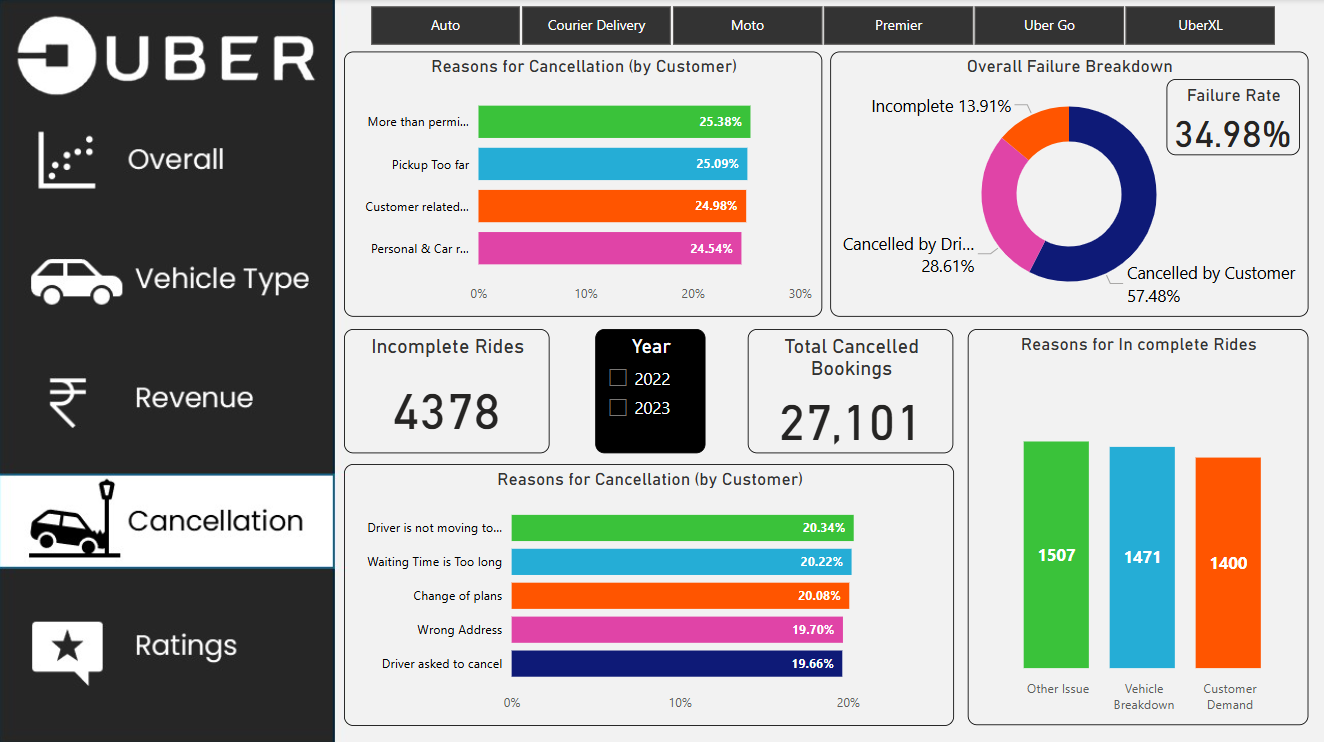

The page's visual inventory and layout, read from the dashboard file:
{"tool":"powerbi","page":{"name":"Cancellation","canvas":[1280,720],"ordinal":3},"visuals":[{"type":"barChart","title":"Reasons for Cancellation (by Customer) ","fields":{"Category":["Uber_data.Cancelled by Customer Reason"],"Y":["CountNonNull(Uber_data.Booking ID)"],"Series":["Uber_data.Cancelled by Customer Reason"]},"box":[332.5,448.8,588.8,252.5],"z":0},{"type":"barChart","title":"Reasons for Cancellation (by Customer) ","fields":{"Series":["Uber_data.Cancelled by Driver Reason"],"Y":["CountNonNull(Uber_data.Booking ID)"],"Category":["Uber_data.Cancelled by Driver Reason"]},"box":[332.5,51.2,461.2,256.2],"z":1000},{"type":"slicer","fields":{"Values":["Uber_data.Vehicle Type"]},"box":[332.5,0,922.5,51.2],"z":2000},{"type":"card","title":"Total Cancelled Bookings","fields":{"Values":["CountNonNull(Uber_data.Booking ID)"]},"box":[722.5,318.8,198.8,120],"z":3000},{"type":"card","title":"Incomplete Rides","fields":{"Values":["CountNonNull(Uber_data.Booking ID)"]},"box":[332.5,318.8,198.8,120],"z":4000},{"type":"columnChart","title":"Reasons for In complete Rides","fields":{"Y":["CountNonNull(Uber_data.Booking ID)"],"Category":["Uber_data.Incomplete Ride Reason"],"Series":["Uber_data.Incomplete Ride Reason"]},"box":[935,318.8,328.8,382.5],"z":5000},{"type":"donutChart","title":"Overall Failure Breakdown","fields":{"Y":["CountNonNull(Uber_data.Booking ID)"],"Category":["Uber_data.Booking Status"]},"box":[802.5,51.2,461.2,256.2],"z":6000},{"type":"slicer","title":"Year","fields":{"Values":["Uber_data.Year"]},"box":[575,318.8,106.2,120],"z":6001},{"type":"card","title":"Failure Rate ","fields":{"Values":["Uber_data.FailureRate"]},"box":[1126.2,77.5,128.8,73.8],"z":6002},{"type":"actionButton","box":[0,115,322.5,90],"z":6003},{"type":"actionButton","box":[0,217.5,322.5,90],"z":6004},{"type":"actionButton","box":[0,333.8,322.5,90],"z":6005},{"type":"actionButton","box":[0,587.5,322.5,90],"z":6006}]}

Visuals, with their boxes on the page's 1280x720 design canvas (x1, y1, x2, y2). These are canvas units, not pixel positions in the 1324x742 screenshot, which may show the page scaled, cropped or inside an application window:
"Reasons for Cancellation (by Customer) " barChart: <box>332,449,921,701</box>
"Reasons for Cancellation (by Customer) " barChart: <box>332,51,794,307</box>
slicer - Uber_data.Vehicle Type: <box>332,0,1255,51</box>
"Total Cancelled Bookings" card: <box>722,319,921,439</box>
"Incomplete Rides" card: <box>332,319,531,439</box>
"Reasons for In complete Rides" columnChart: <box>935,319,1264,701</box>
"Overall Failure Breakdown" donutChart: <box>802,51,1264,307</box>
"Year" slicer: <box>575,319,681,439</box>
"Failure Rate " card: <box>1126,78,1255,151</box>
actionButton: <box>0,115,322,205</box>
actionButton: <box>0,218,322,308</box>
actionButton: <box>0,334,322,424</box>
actionButton: <box>0,588,322,678</box>
